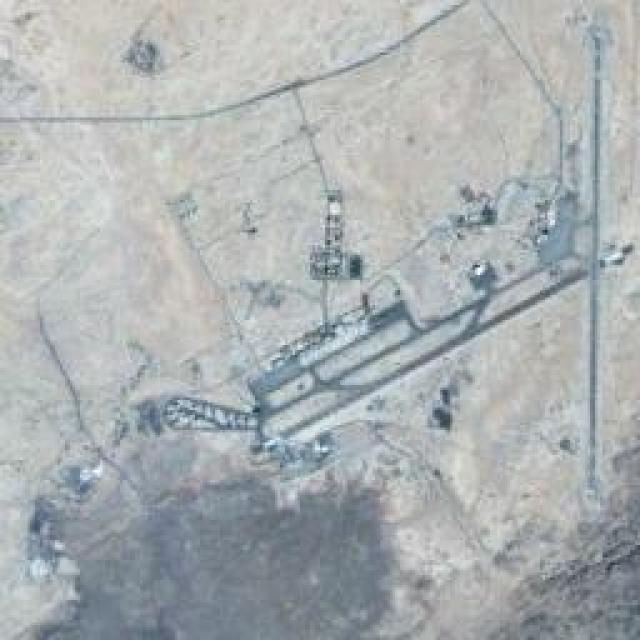Airport: (117, 190, 630, 477)
Desert: (0, 0, 638, 638)
